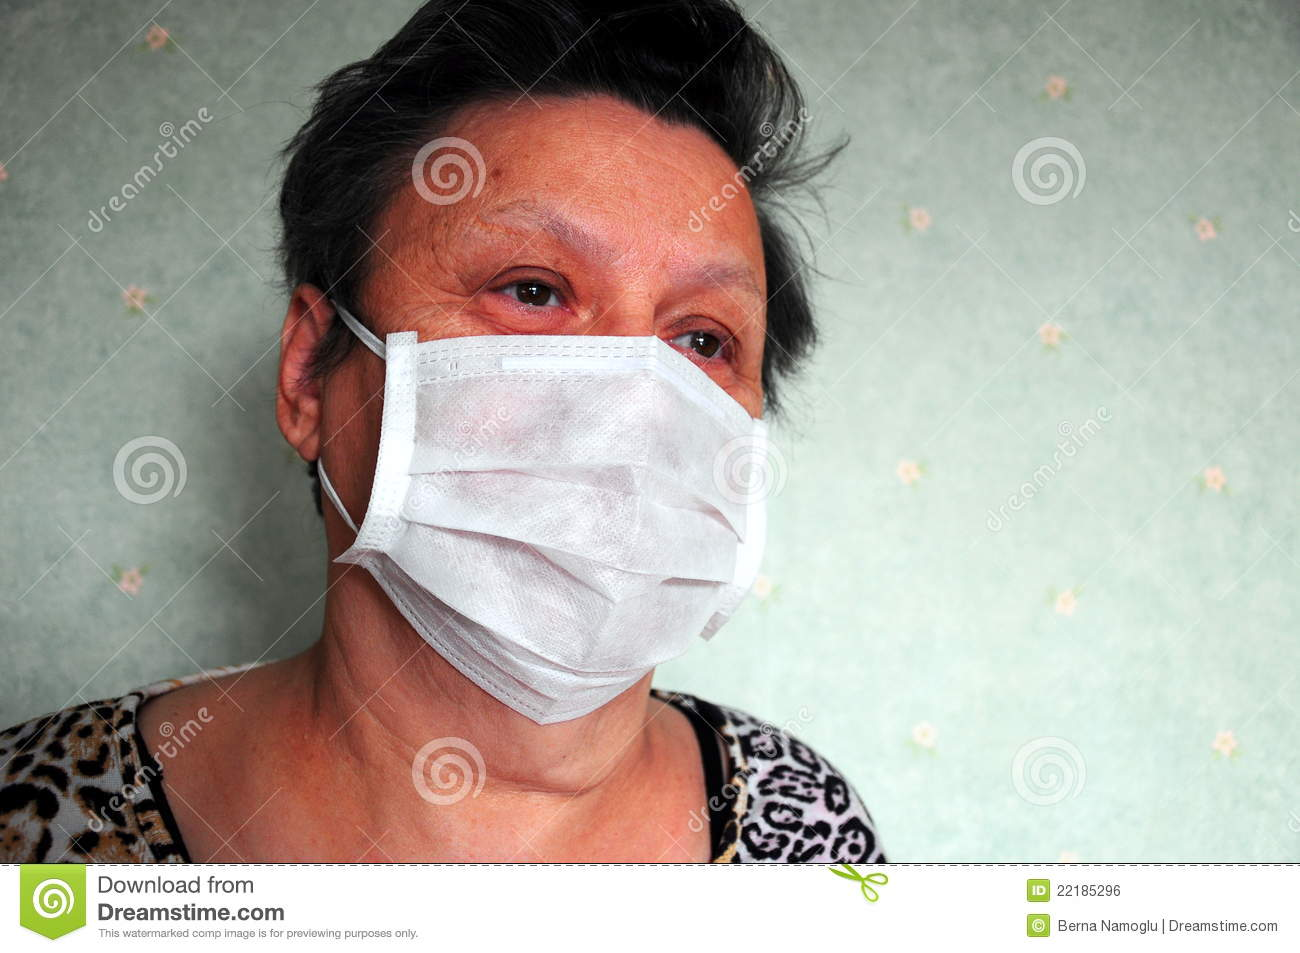mask: (353, 332, 770, 727)
